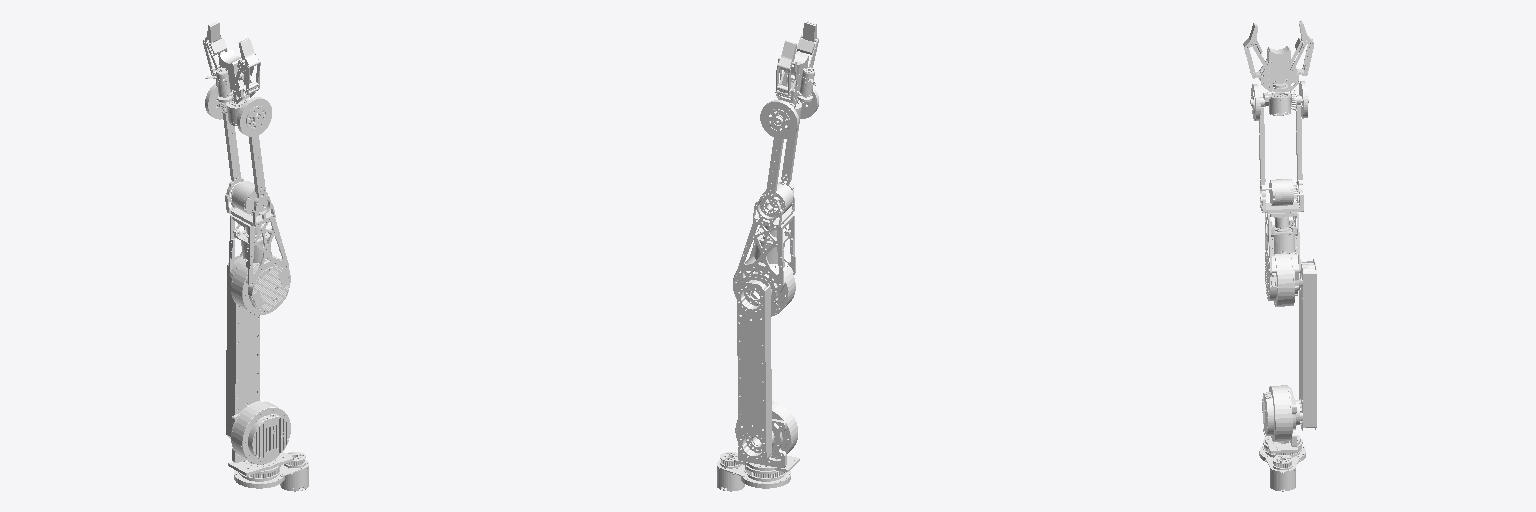
The robot description file, URDF, robot "robotic_arm_v4_urdf":
<?xml version="1.0" encoding="utf-8"?>
<!-- This URDF was automatically created by SolidWorks to URDF Exporter! Originally created by [author] ([email redacted]) 
     Commit Version: 1.6.0-4-g7f85cfe  Build Version: 1.6.7995.38578
     For more information, please see http://wiki.ros.org/sw_urdf_exporter -->
<robot
  name="robotic_arm_v4_urdf">
  <link
    name="base_link">
    <inertial>
      <origin
        xyz="-0.069751 0.24719 0.0064541"
        rpy="0 0 0" />
      <mass
        value="6.3501" />
      <inertia
        ixx="0.19581"
        ixy="0.075623"
        ixz="0.018029"
        iyy="0.14706"
        iyz="-0.0074636"
        izz="0.32952" />
    </inertial>
    <visual>
      <origin
        xyz="0 0 0"
        rpy="0 0 0" />
      <geometry>
        <mesh
          filename="package://robotic_arm_v4_urdf/meshes/base_link.STL" />
      </geometry>
      <material
        name="">
        <color
          rgba="1 1 1 1" />
      </material>
    </visual>
    <collision>
      <origin
        xyz="0 0 0"
        rpy="0 0 0" />
      <geometry>
        <mesh
          filename="package://robotic_arm_v4_urdf/meshes/base_link.STL" />
      </geometry>
    </collision>
  </link>
  <link
    name="Link0">
    <inertial>
      <origin
        xyz="-0.070005 0.24719 -0.0024717"
        rpy="0 0 0" />
      <mass
        value="6.3501" />
      <inertia
        ixx="0.19342"
        ixy="0.075958"
        ixz="0.00057264"
        iyy="0.14706"
        iyz="0.0022174"
        izz="0.33191" />
    </inertial>
    <visual>
      <origin
        xyz="0 0 0"
        rpy="0 0 0" />
      <geometry>
        <mesh
          filename="package://robotic_arm_v4_urdf/meshes/Link0.STL" />
      </geometry>
      <material
        name="">
        <color
          rgba="1 1 1 1" />
      </material>
    </visual>
    <collision>
      <origin
        xyz="0 0 0"
        rpy="0 0 0" />
      <geometry>
        <mesh
          filename="package://robotic_arm_v4_urdf/meshes/Link0.STL" />
      </geometry>
    </collision>
  </link>
  <joint
    name="Joint1"
    type="continuous">
    <origin
      xyz="0 0 0"
      rpy="1.5707963267949 0 0.127561037294902" />
    <parent
      link="base_link" />
    <child
      link="Link0" />
    <axis
      xyz="0 -1 0" />
    <limit
      lower="-3.14"
      upper="3.14"
      effort="6"
      velocity="60" />
  </joint>
  <link
    name="Link1">
    <inertial>
      <origin
        xyz="-0.16722 0.085323 -0.0024717"
        rpy="0 0 0" />
      <mass
        value="6.3501" />
      <inertia
        ixx="0.098161"
        ixy="0.033345"
        ixz="-0.0010252"
        iyy="0.24231"
        iyz="0.0020479"
        izz="0.33191" />
    </inertial>
    <visual>
      <origin
        xyz="0 0 0"
        rpy="0 0 0" />
      <geometry>
        <mesh
          filename="package://robotic_arm_v4_urdf/meshes/Link1.STL" />
      </geometry>
      <material
        name="">
        <color
          rgba="1 1 1 1" />
      </material>
    </visual>
    <collision>
      <origin
        xyz="0 0 0"
        rpy="0 0 0" />
      <geometry>
        <mesh
          filename="package://robotic_arm_v4_urdf/meshes/Link1.STL" />
      </geometry>
    </collision>
  </link>
  <joint
    name="Joint2"
    type="continuous">
    <origin
      xyz="0 0.0729999999999994 0"
      rpy="0 0 -0.716850557781711" />
    <parent
      link="Link0" />
    <child
      link="Link1" />
    <axis
      xyz="0 0 1" />
    <limit
      lower="-3.14"
      upper="3.14"
      effort="40"
      velocity="70" />
  </joint>
  <link
    name="J3_J4">
    <inertial>
      <origin
        xyz="-0.00247167774495593 0.0734841695919402 0.145792345770745"
        rpy="0 0 0" />
      <mass
        value="6.3501062852158" />
      <inertia
        ixx="0.331908150395851"
        ixy="-0.000572638622391099"
        ixz="-0.00221742532903249"
        iyy="0.193419508427533"
        iyz="0.0759576843452993"
        izz="0.147055928065256" />
    </inertial>
    <visual>
      <origin
        xyz="0 0 0"
        rpy="0 0 0" />
      <geometry>
        <mesh
          filename="package://robotic_arm_v4_urdf/meshes/J3_J4.STL" />
      </geometry>
      <material
        name="">
        <color
          rgba="1 1 1 1" />
      </material>
    </visual>
    <collision>
      <origin
        xyz="0 0 0"
        rpy="0 0 0" />
      <geometry>
        <mesh
          filename="package://robotic_arm_v4_urdf/meshes/J3_J4.STL" />
      </geometry>
    </collision>
  </link>
  <joint
    name="Joint3"
    type="continuous">
    <origin
      xyz="-0.20761 0.24351 0"
      rpy="0.85395 -1.5708 0" />
    <parent
      link="Link1" />
    <child
      link="J3_J4" />
    <axis
      xyz="1 0 0" />
    <limit
      lower="-3.14"
      upper="3.14"
      effort="40"
      velocity="70" />
  </joint>
  <link
    name="Link2">
    <inertial>
      <origin
        xyz="-0.0024717 -0.077241 0.14579"
        rpy="0 0 0" />
      <mass
        value="6.3501" />
      <inertia
        ixx="0.33191"
        ixy="-0.00057264"
        ixz="-0.0022174"
        iyy="0.19342"
        iyz="0.075958"
        izz="0.14706" />
    </inertial>
    <visual>
      <origin
        xyz="0 0 0"
        rpy="0 0 0" />
      <geometry>
        <mesh
          filename="package://robotic_arm_v4_urdf/meshes/Link2.STL" />
      </geometry>
      <material
        name="">
        <color
          rgba="1 1 1 1" />
      </material>
    </visual>
    <collision>
      <origin
        xyz="0 0 0"
        rpy="0 0 0" />
      <geometry>
        <mesh
          filename="package://robotic_arm_v4_urdf/meshes/Link2.STL" />
      </geometry>
    </collision>
  </link>
  <joint
    name="Joint4"
    type="continuous">
    <origin
      xyz="0 0.15072565562434 0"
      rpy="0 0 0" />
    <parent
      link="J3_J4" />
    <child
      link="Link2" />
    <axis
      xyz="0 -1 0" />
    <limit
      lower="-3.14"
      upper="3.14"
      effort="3"
      velocity="120" />
  </joint>
  <link
    name="J5_J6">
    <inertial>
      <origin
        xyz="-0.0024717 -0.32452 0.14579"
        rpy="0 0 0" />
      <mass
        value="6.3501" />
      <inertia
        ixx="0.33191"
        ixy="-0.00057264"
        ixz="-0.0022174"
        iyy="0.19342"
        iyz="0.075958"
        izz="0.14706" />
    </inertial>
    <visual>
      <origin
        xyz="0 0 0"
        rpy="0 0 0" />
      <geometry>
        <mesh
          filename="package://robotic_arm_v4_urdf/meshes/J5_J6.STL" />
      </geometry>
      <material
        name="">
        <color
          rgba="1 1 1 1" />
      </material>
    </visual>
    <collision>
      <origin
        xyz="0 0 0"
        rpy="0 0 0" />
      <geometry>
        <mesh
          filename="package://robotic_arm_v4_urdf/meshes/J5_J6.STL" />
      </geometry>
    </collision>
  </link>
  <joint
    name="Joint5"
    type="continuous">
    <origin
      xyz="0 0.247274344375661 0"
      rpy="0 0 0" />
    <parent
      link="Link2" />
    <child
      link="J5_J6" />
    <axis
      xyz="-1 0 0" />
    <limit
      lower="-3.14"
      upper="3.14"
      effort="3"
      velocity="120" />
  </joint>
  <link
    name="End_Effector">
    <inertial>
      <origin
        xyz="0.00247167774495455 -0.352913615431437 -0.145792345770728"
        rpy="0 0 0" />
      <mass
        value="6.3501062852158" />
      <inertia
        ixx="0.33190815039585"
        ixy="0.000572638622390077"
        ixz="-0.00221742532903547"
        iyy="0.193419508427541"
        iyz="-0.075957684345297"
        izz="0.147055928065249" />
    </inertial>
    <visual>
      <origin
        xyz="0 0 0"
        rpy="0 0 0" />
      <geometry>
        <mesh
          filename="package://robotic_arm_v4_urdf/meshes/End_Effector.STL" />
      </geometry>
      <material
        name="">
        <color
          rgba="1 1 1 1" />
      </material>
    </visual>
    <collision>
      <origin
        xyz="0 0 0"
        rpy="0 0 0" />
      <geometry>
        <mesh
          filename="package://robotic_arm_v4_urdf/meshes/End_Effector.STL" />
      </geometry>
    </collision>
  </link>
  <joint
    name="Joint6"
    type="continuous">
    <origin
      xyz="0 0.0283977850233832 0"
      rpy="3.14159265358975 0 -3.14159265358979" />
    <parent
      link="J5_J6" />
    <child
      link="End_Effector" />
    <axis
      xyz="0 1 0" />
    <limit
      lower="-3.14"
      upper="3.14"
      effort="0.8"
      velocity="150" />
  </joint>
  <ros2_control name="EngineerArmSystem" type="system">
    <hardware>
      <plugin>mock_components/GenericSystem</plugin>
      <param name="mock_sensor_commands">false</param>
      <param name="state_following_offset">0.0</param>
    </hardware>
    <joint name="Joint1">
      <command_interface name="position" />
      <state_interface name="position" />
      <state_interface name="velocity" />
    </joint>
    <joint name="Joint2">
      <command_interface name="position" />
      <state_interface name="position" />
      <state_interface name="velocity" />
    </joint>
    <joint name="Joint3">
      <command_interface name="position" />
      <state_interface name="position" />
      <state_interface name="velocity" />
    </joint>
    <joint name="Joint4">
      <command_interface name="position" />
      <state_interface name="position" />
      <state_interface name="velocity" />
    </joint>
    <joint name="Joint5">
      <command_interface name="position" />
      <state_interface name="position" />
      <state_interface name="velocity" />
    </joint>
    <joint name="Joint6">
      <command_interface name="position" />
      <state_interface name="position" />
      <state_interface name="velocity" />
    </joint>
  </ros2_control>
</robot>

--- What the picture shows (computed from the rendered views, not written in the file) ---
3 views of the same robot in one strip: view 1: azimuth 30°, elevation 25°; view 2: azimuth 150°, elevation 25°; view 3: azimuth 270°, elevation 25° (orthographic).
Robot: robotic_arm_v4_urdf — 7 links, 6 joints (6 continuous); root link base_link; default pose: all joints at 0.
Visible links, largest first — view 1: Link1, Link2, Link0, End_Effector, J3_J4, base_link; view 2: Link1, Link2, J3_J4, End_Effector, Link0, base_link; view 3: Link1, Link2, End_Effector, Link0, J3_J4, base_link, J5_J6.
Boxes of the visible links, x1,y1,x2,y2 form: Link1: [226, 255, 290, 438]; Link2: [205, 83, 275, 226]; Link0: [228, 401, 292, 481]; End_Effector: [203, 21, 260, 103]; J3_J4: [229, 215, 288, 286]; base_link: [234, 452, 308, 491]; Link1: [733, 256, 795, 462]; Link2: [753, 87, 818, 228]; J3_J4: [737, 214, 795, 304]; End_Effector: [775, 21, 818, 104]; Link0: [734, 401, 799, 481]; base_link: [717, 452, 790, 491]; Link1: [1265, 253, 1316, 430]; Link2: [1250, 81, 1308, 213]; End_Effector: [1243, 20, 1313, 91]; Link0: [1262, 385, 1302, 457]; J3_J4: [1265, 212, 1300, 295]; base_link: [1259, 446, 1305, 491]; J5_J6: [1263, 90, 1296, 115].
Size in the robot's own frame: 0.2285 by 0.1582 by 1.02 metres.
7 mesh visuals loaded from 7 distinct referenced files (7 binary STL).